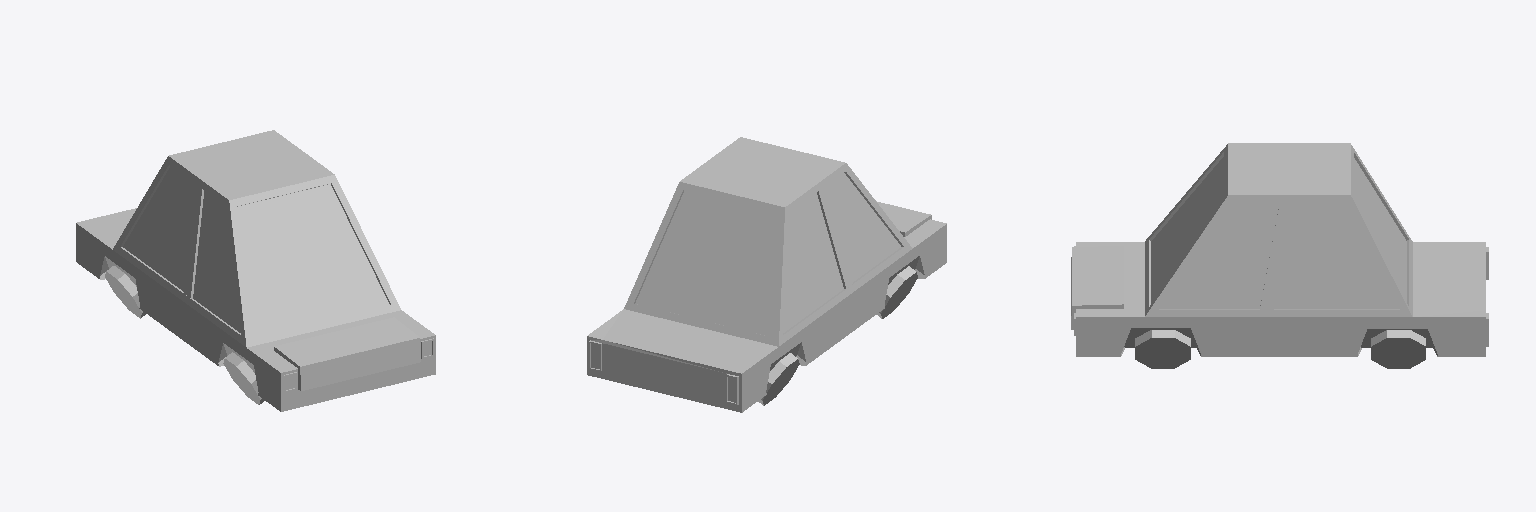
Rendered from FutureCar1.obj.
3 views of the same model, side by side, from view 1: azimuth 30°, elevation 25°; view 2: azimuth 150°, elevation 25°; view 3: azimuth 270°, elevation 25° (orthographic).
Parts seen in each view (by area): view 1: Regular_Car_Cube.001; view 2: Regular_Car_Cube.001; view 3: Regular_Car_Cube.001.
Boxes of the visible parts, <box> form: Regular_Car_Cube.001: <box>76,130,435,411</box>; Regular_Car_Cube.001: <box>587,137,946,412</box>; Regular_Car_Cube.001: <box>1071,143,1488,368</box>.
Bounding box in the file's own units: 4.83 × 4.78 × 10.4.